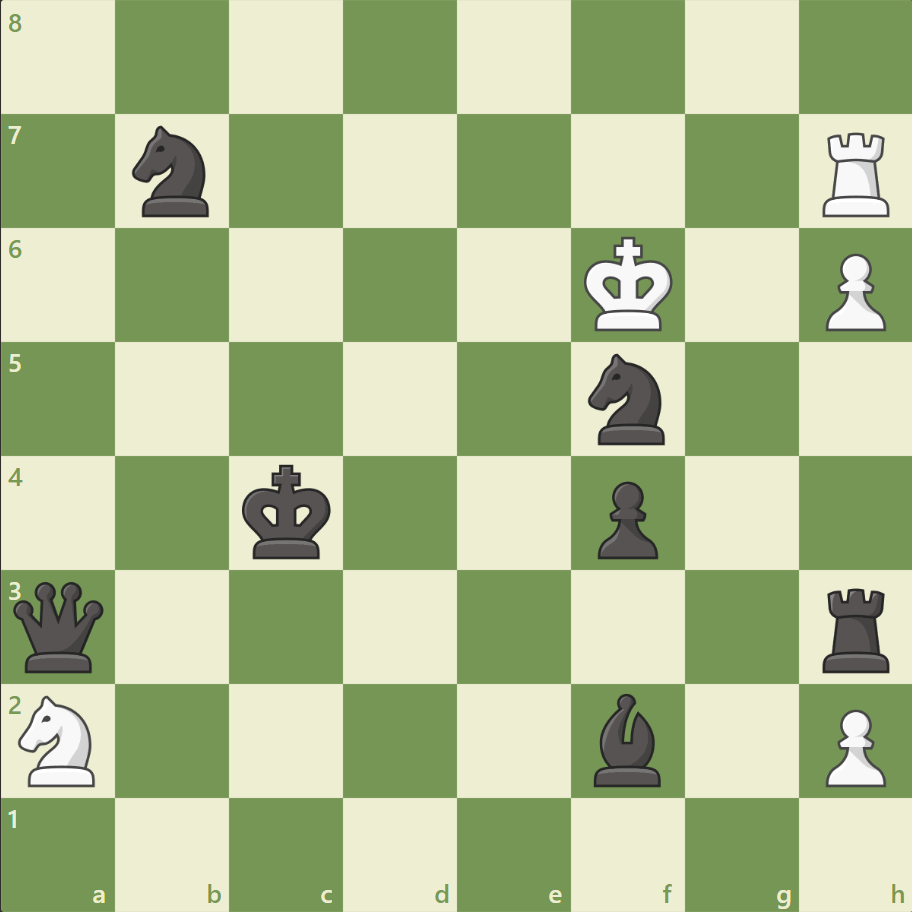K: (579, 231, 679, 339)
N: (11, 688, 108, 791)
P: (815, 246, 889, 337), (815, 700, 889, 791)
R: (814, 125, 897, 222)
b: (585, 687, 669, 790)
k: (238, 458, 338, 566)
n: (124, 121, 222, 223), (579, 348, 676, 450)
p: (588, 473, 662, 564)
q: (10, 576, 109, 676)
r: (814, 579, 897, 676)
